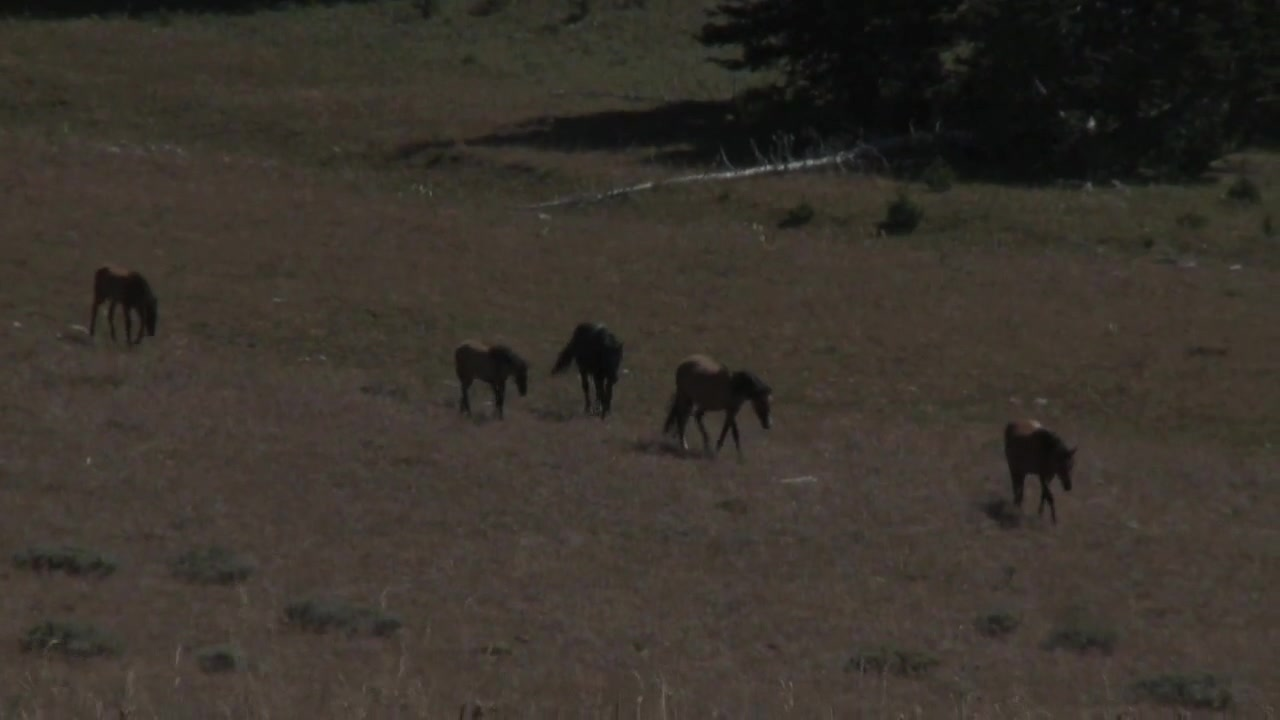horse: (657, 353, 779, 461), (999, 419, 1082, 529), (548, 324, 631, 423), (449, 339, 539, 425), (85, 259, 164, 351)
